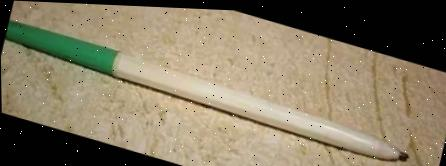pen-pencil: (5, 19, 407, 159)
